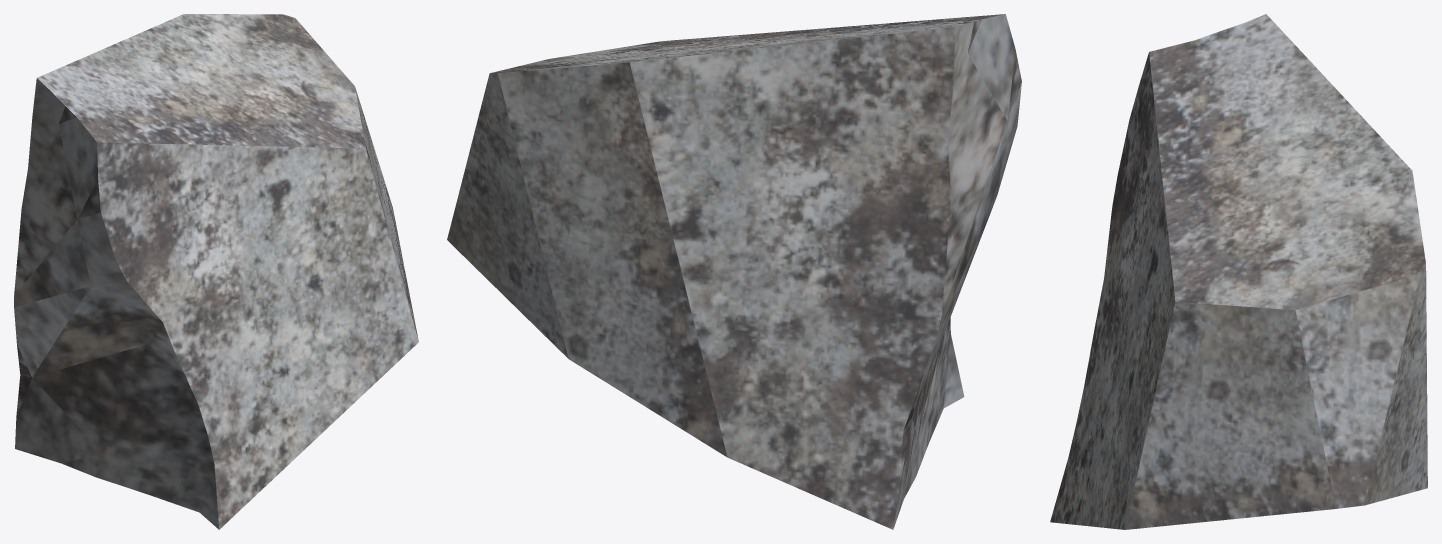
File: Asteroid_Large_001_02_012_03_027.fbx
3 renders of one model, left to right at view 1: azimuth 30°, elevation 25°; view 2: azimuth 150°, elevation 25°; view 3: azimuth 270°, elevation 25°, orthographic. The views are drawn at different scales.
Visible parts, largest first — view 1: Asteroid_Large_001_02_012_03_027; view 2: Asteroid_Large_001_02_012_03_027; view 3: Asteroid_Large_001_02_012_03_027.
Part boxes in pixels (box(x1,y1,x2,y2)): Asteroid_Large_001_02_012_03_027: box(14, 14, 418, 529); Asteroid_Large_001_02_012_03_027: box(447, 14, 1021, 529); Asteroid_Large_001_02_012_03_027: box(1050, 14, 1427, 529).
Bounding box in the file's own units: 10.04 × 9.86 × 7.35.
